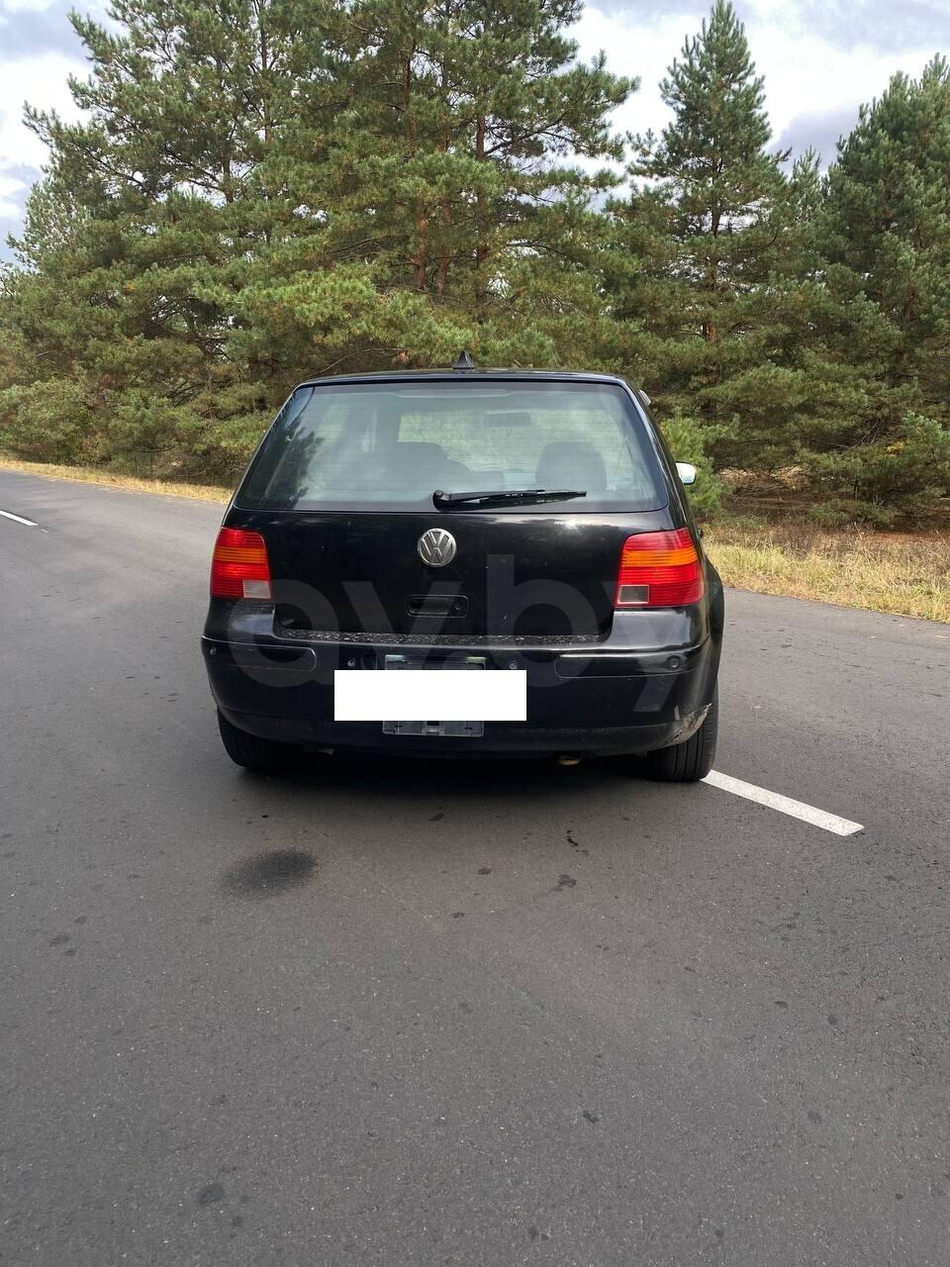Golf_1997-2006: (203, 357, 730, 806)
